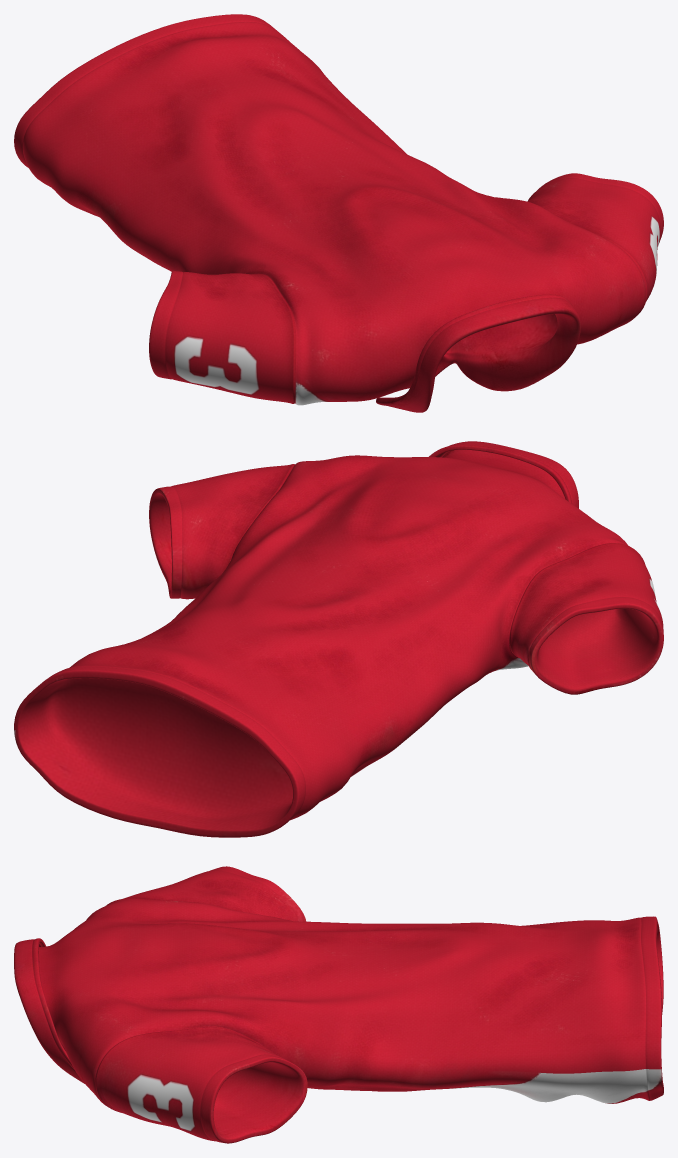
The picture shows the model from 3 angles, top to bottom: view 1: azimuth 30°, elevation 25°; view 2: azimuth 150°, elevation 25°; view 3: azimuth 270°, elevation 25°; orthographic projection. The views are drawn at different scales.
Parts seen in each view (by area): view 1: 13647_Polo_Team_Shirt_v2_L3; view 2: 13647_Polo_Team_Shirt_v2_L3; view 3: 13647_Polo_Team_Shirt_v2_L3.
Part boxes in pixels (left/top/right/bottom): 13647_Polo_Team_Shirt_v2_L3: left=14, top=14, right=663, bottom=412; 13647_Polo_Team_Shirt_v2_L3: left=14, top=441, right=663, bottom=837; 13647_Polo_Team_Shirt_v2_L3: left=14, top=866, right=663, bottom=1143.
Size of the model in its own units: 29.86 by 9.08 by 36.37.
2 materials, 1 textured.
